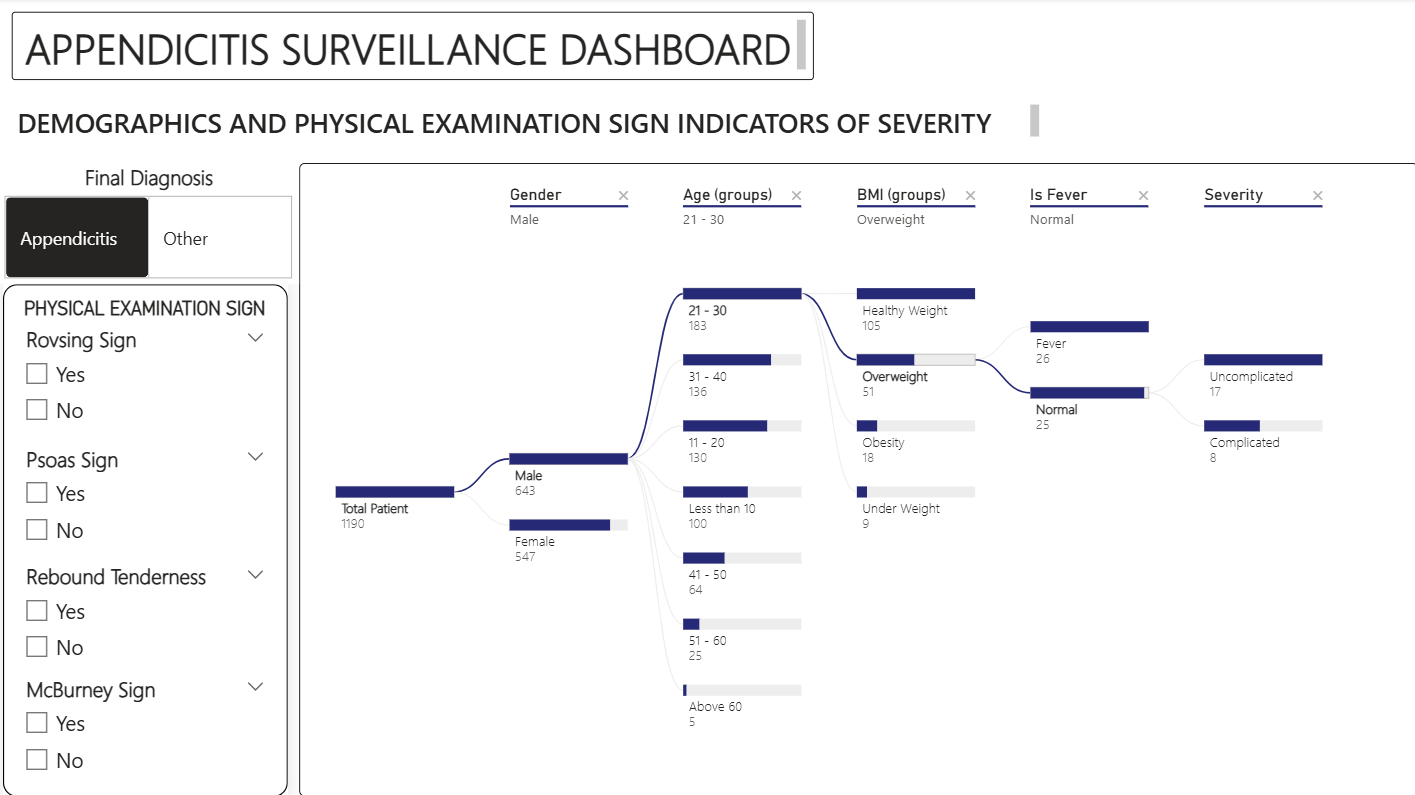

The page's visual inventory and layout, read from the dashboard file:
{"tool":"powerbi","page":{"name":"Clinical Triage Pathways","canvas":[1280,720],"ordinal":1},"visuals":[{"type":"shape","box":[4.9,258,256.8,462.2],"z":0},{"type":"decompositionTreeVisual","fields":{"Analyze":["CountNonNull(appendicitis_comprehensive_data.Patient_ID)"],"ExplainBy":["appendicitis_comprehensive_data.Gender","appendicitis_comprehensive_data.Age (groups)","appendicitis_comprehensive_data.BMI (groups)","appendicitis_comprehensive_data.Fever_Temp_C (groups)","appendicitis_comprehensive_data.Severity"]},"box":[271.5,149.2,1008.8,571.1],"z":1000},{"type":"advancedSlicerVisual","fields":{"Values":["appendicitis_comprehensive_data.Final_Diagnosis (groups)"]},"box":[1.2,149.2,270.2,108.8],"z":2000},{"type":"slicer","fields":{"Values":["appendicitis_comprehensive_data.Psoas_Sign"]},"box":[12.2,397.4,239.7,106.4],"z":3000},{"type":"slicer","fields":{"Values":["appendicitis_comprehensive_data.Rebound_Tenderness"]},"box":[12.2,503.8,239.7,110.1],"z":4000},{"type":"slicer","title":"PHYSICAL EXAMINATION SIGN","fields":{"Values":["appendicitis_comprehensive_data.Rovsing_Sign"]},"box":[12.2,269,239.7,128.4],"z":5000},{"type":"slicer","fields":{"Values":["appendicitis_comprehensive_data.McBurney_Sign"]},"box":[12.2,605.3,239.7,106.4],"z":6000},{"type":"textbox","box":[12,12,722.8,61.5],"z":7000},{"type":"textbox","box":[12,90.9,931.3,40.1],"z":8000}]}

Visuals, with their boxes in screenshot pixels (x1, y1, x2, y2), scaled from the page's 1280x720 canvas onto the 1415x795 screenshot:
shape: <box>5,285,289,794</box>
decompositionTreeVisual - CountNonNull(appendicitis_comprehensive_data.Patient_ID) x appendicitis_comprehensive_data.Gender: <box>300,165,1414,794</box>
advancedSlicerVisual - appendicitis_comprehensive_data.Final_Diagnosis (groups): <box>1,165,300,285</box>
slicer - appendicitis_comprehensive_data.Psoas_Sign: <box>13,439,278,556</box>
slicer - appendicitis_comprehensive_data.Rebound_Tenderness: <box>13,556,278,678</box>
"PHYSICAL EXAMINATION SIGN" slicer: <box>13,297,278,439</box>
slicer - appendicitis_comprehensive_data.McBurney_Sign: <box>13,668,278,786</box>
textbox: <box>13,13,812,81</box>
textbox: <box>13,100,1043,145</box>
